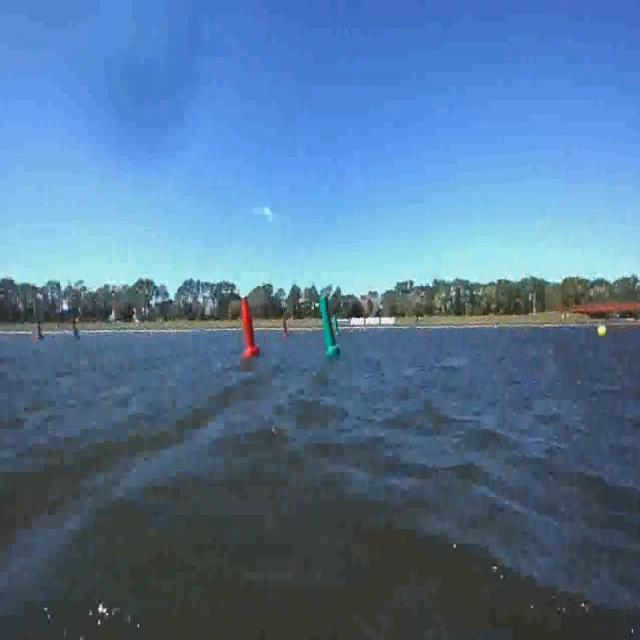green-column-buoy: (319, 294, 340, 358), (72, 316, 81, 340)
red-column-buoy: (240, 301, 260, 358), (282, 318, 289, 338)
yellow-buoy: (598, 324, 607, 337)
